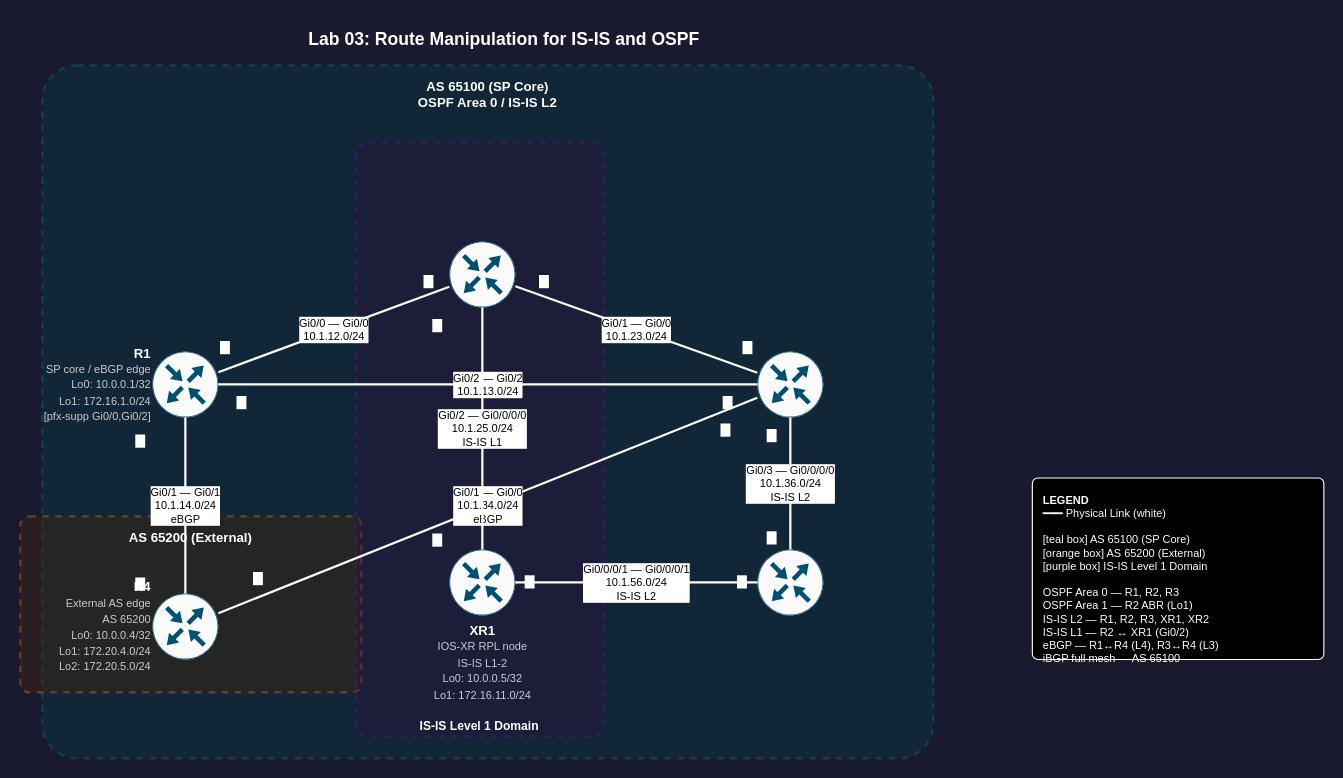
This 1343x778 diagram has some shape labels left out. Here are the shapes that lost their labels. From the top down, the centre of each, then its label:
At point (481, 273): "R2 OSPF ABR (area 0/1) IS-IS L1-L2 boundary Lo0: 10.0.0.2/32 Lo1: 10.2.1.2/24".
At point (789, 383): "R3 SP core / eBGP edge IS-IS L2-only Lo0: 10.0.0.3/32".
At point (789, 581): "XR2 IOS-XR RPL node IS-IS L2-only Lo0: 10.0.0.6/32".
